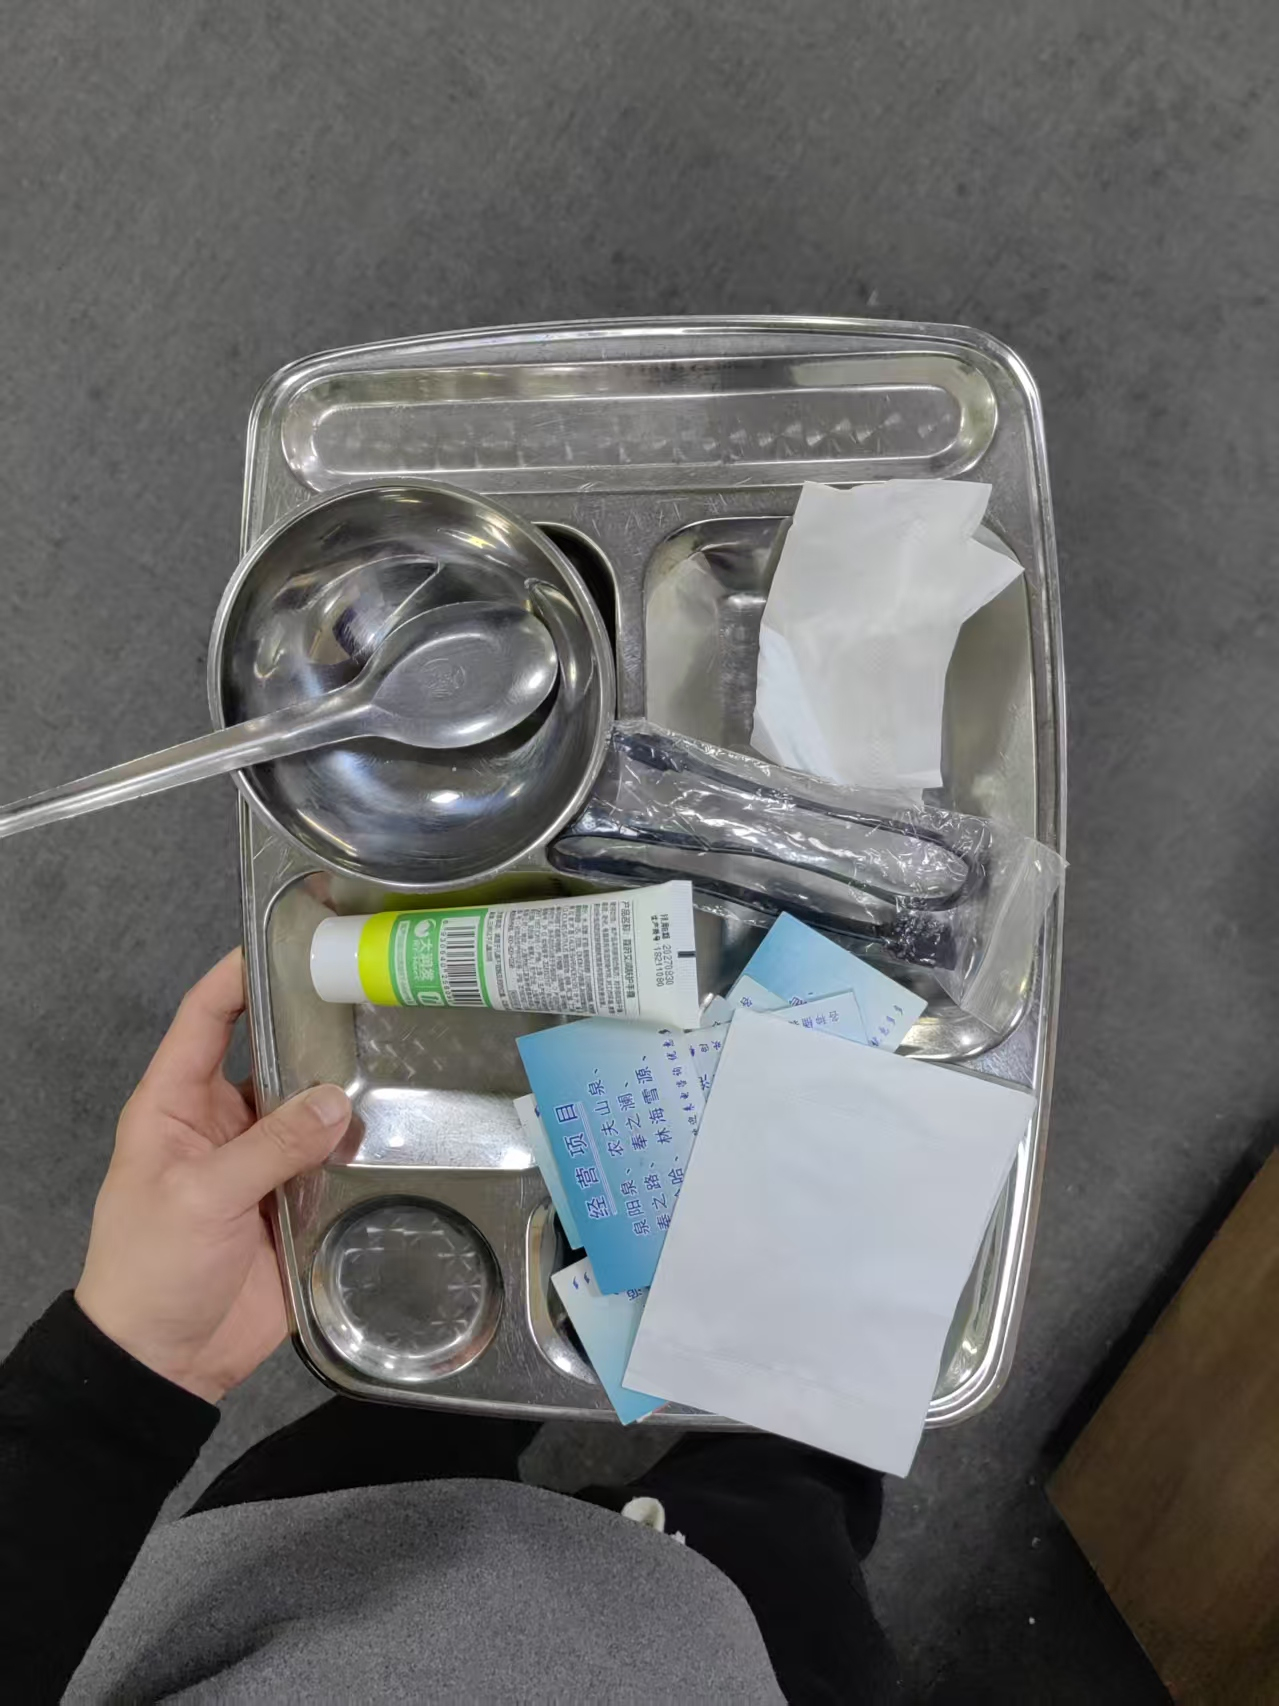moderate: (313, 723, 1077, 1418)
plate: (239, 311, 1072, 1434)
tissue: (616, 1006, 1039, 1480), (752, 470, 1026, 808)
